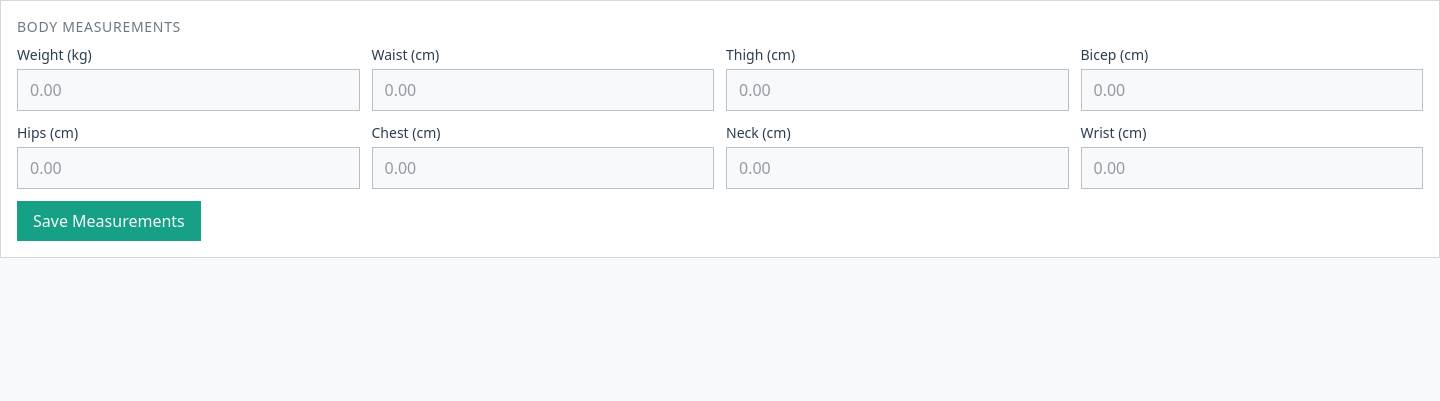
Test: MeasurementLogger › removes a measurement when Delete is clicked
Type "80" into the number field labelled "Weight (kg)" at (188,90), box [17,69,360,111]
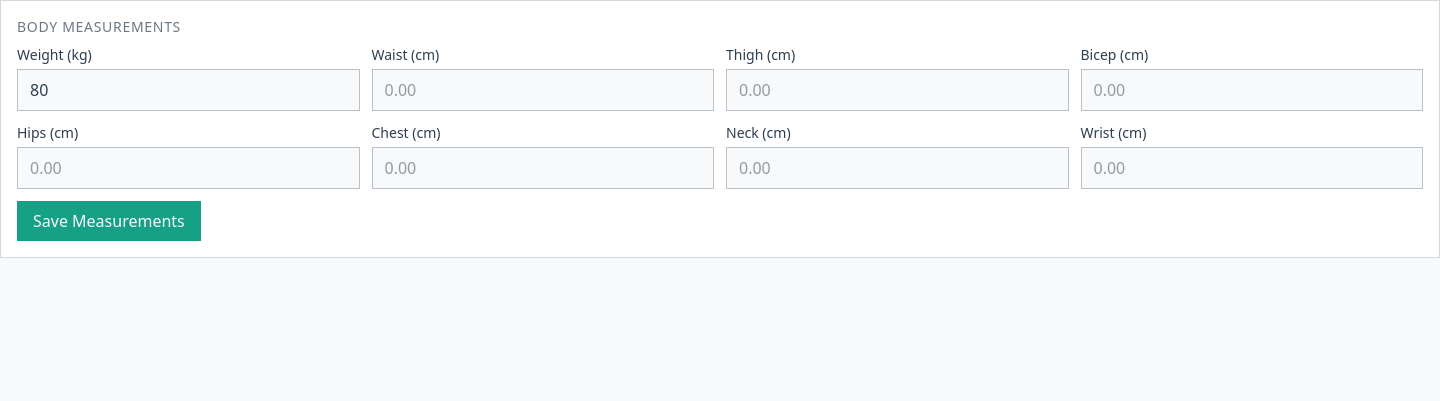
Click the button "Save Measurements" at (109,221), box [17,201,201,241]
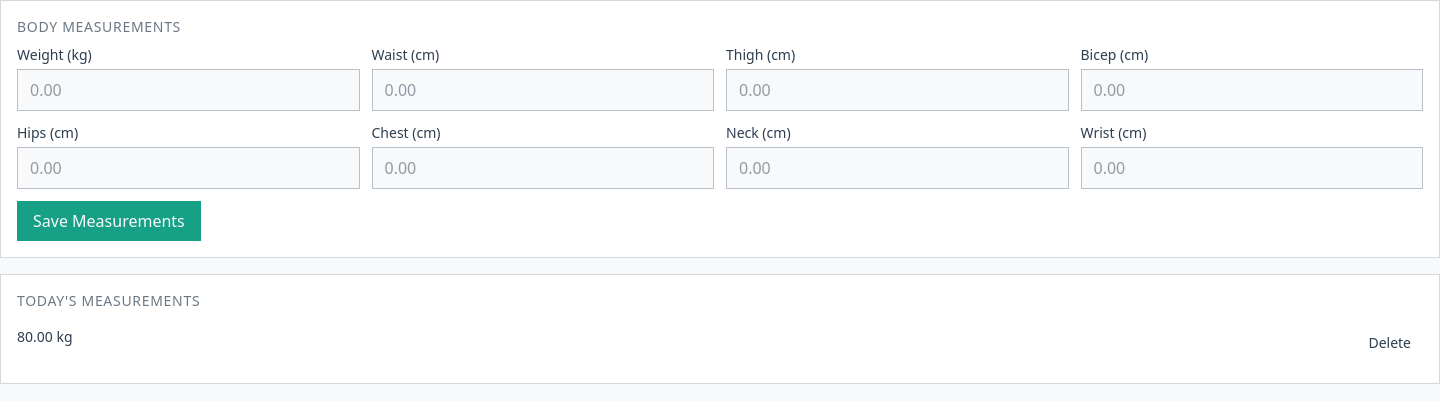
Expected: the text "80.00 kg" is shown, [17,327,72,347]
Click the button with aria-label "delete measurement" at (1390,343), box [1356,327,1423,359]
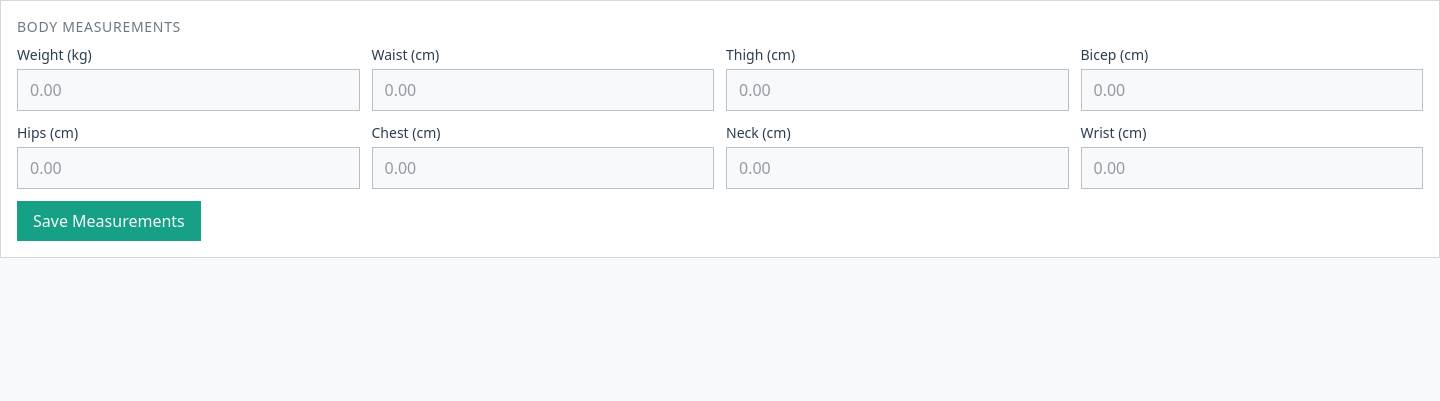
Expected: the text "80.00 kg" is gone
